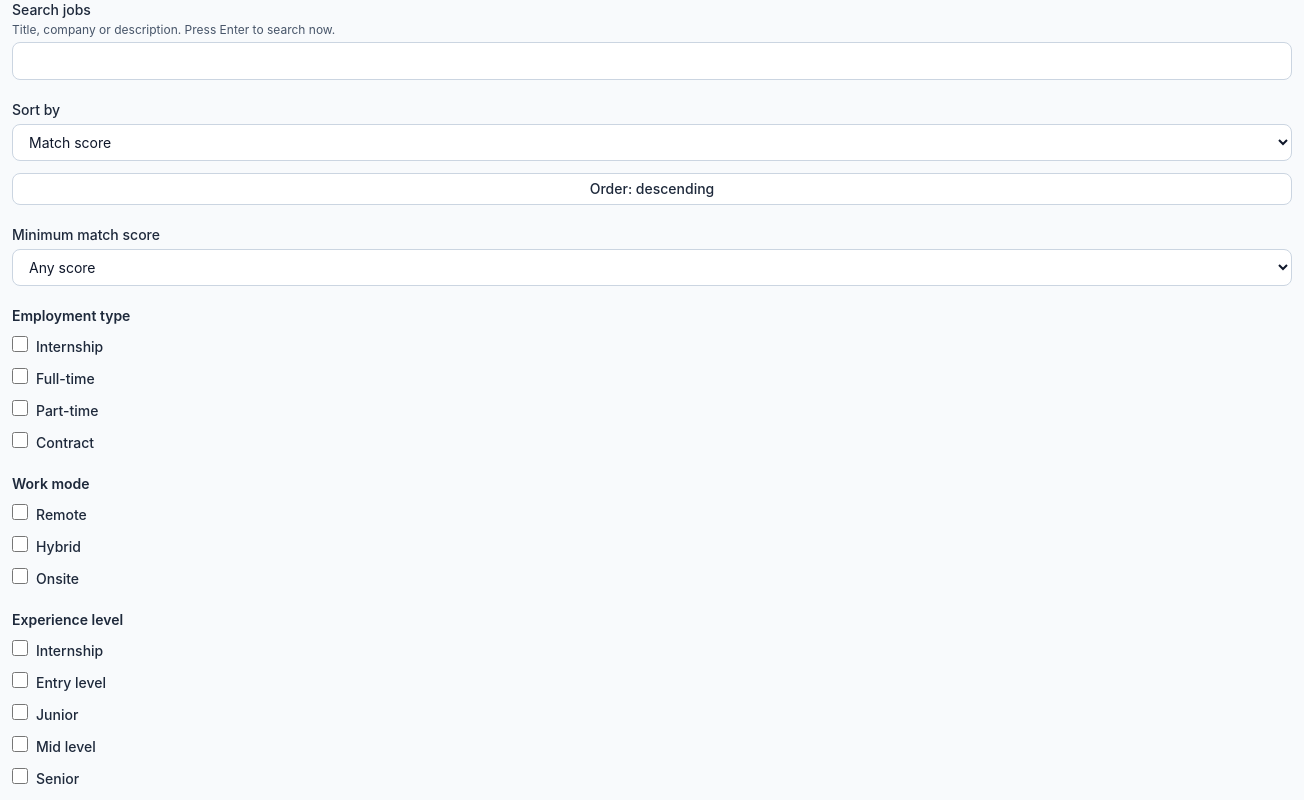
JobFilters › defaults to match score sort and toggles the order when a key is chosen
The image size is (1304, 800).
Expected: the button "Order: descending" is enabled, 12,173 -> 1292,205
Select "Title" in the dropdown labelled "Sort by": x=652, y=142 12,124 -> 1292,161
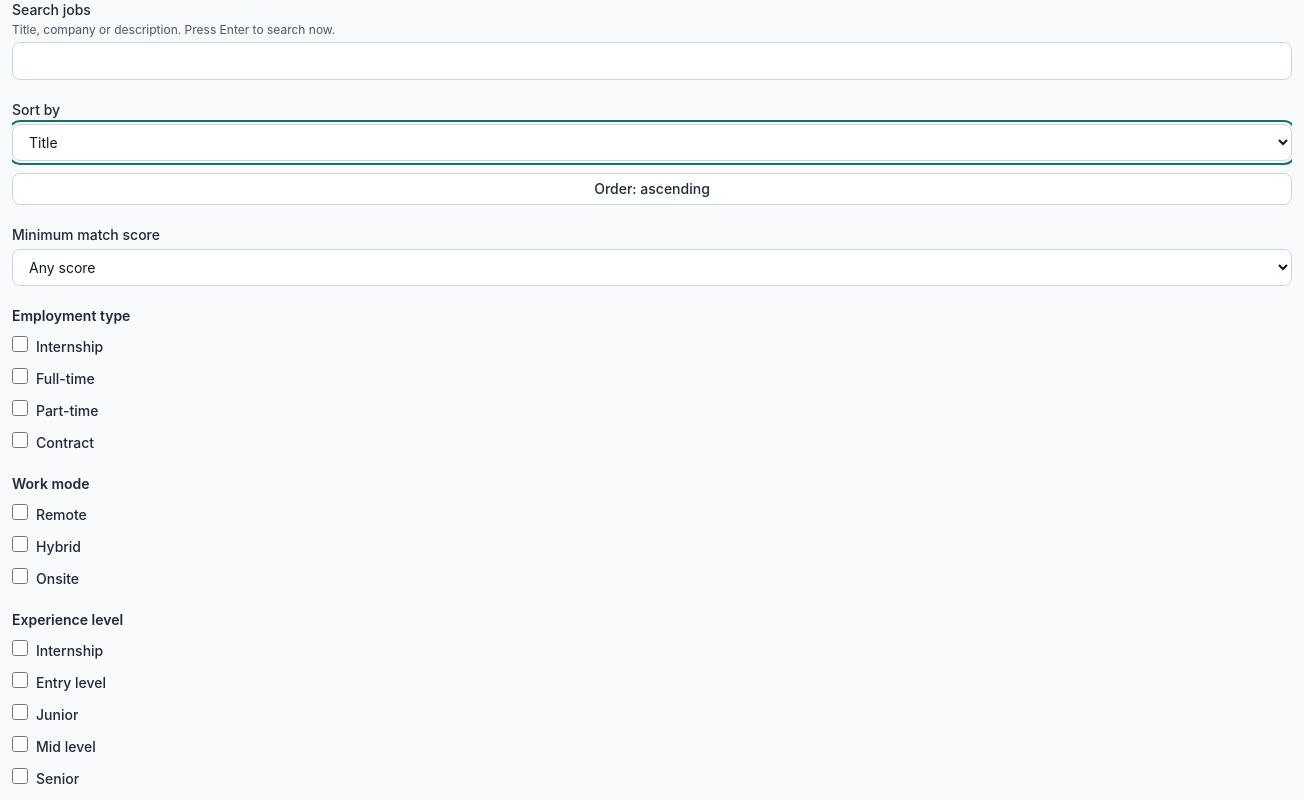
Click the button "Order: ascending": x=652, y=189 12,173 -> 1292,205
(page scrolled)
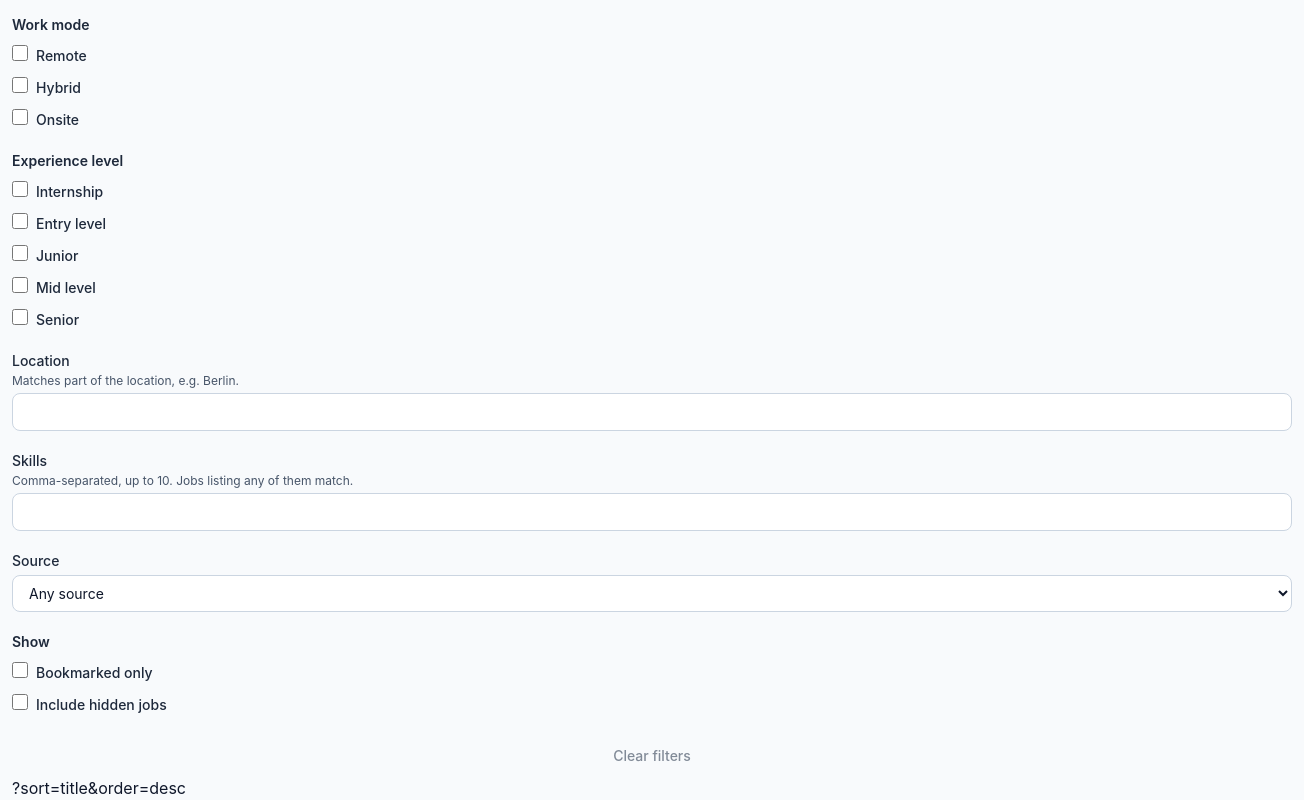
Expected: the text named "Current search" reads "?sort=title&order=desc", 12,778 -> 186,798
